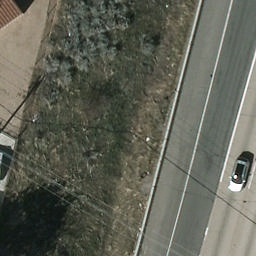car: (226, 158, 251, 195)
